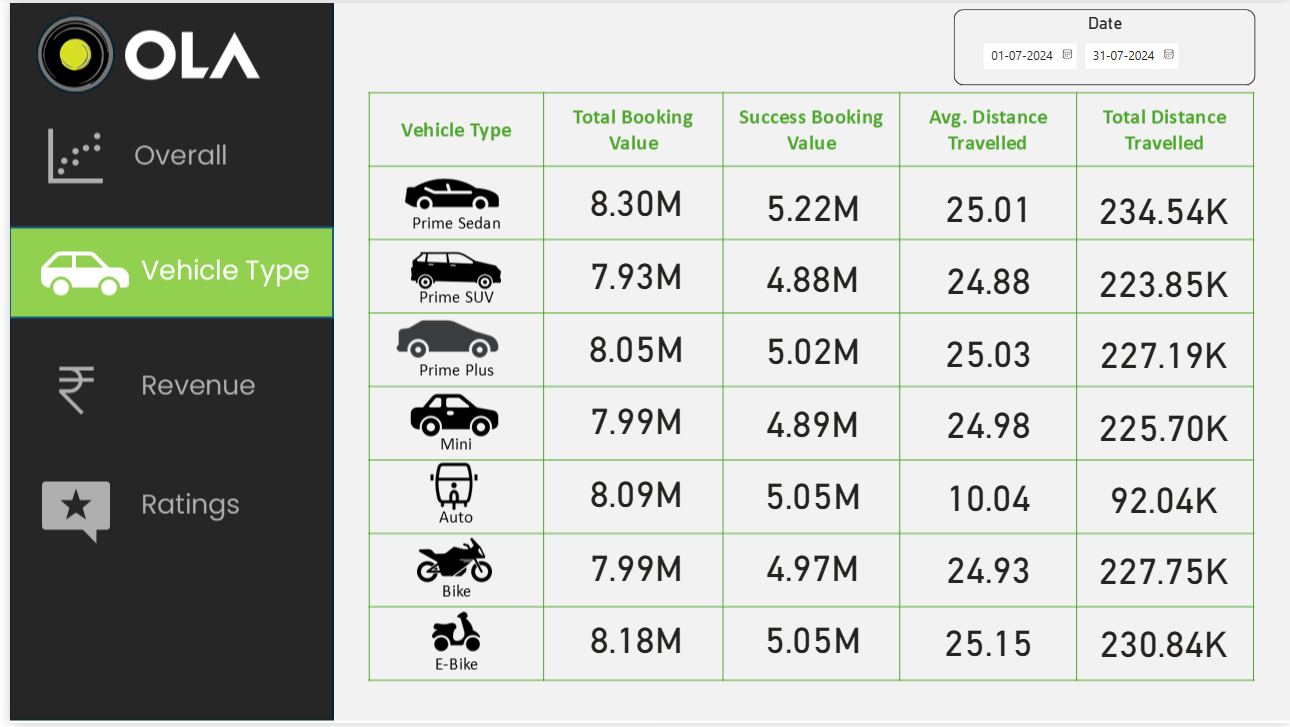

The page's visual inventory and layout, read from the dashboard file:
{"tool":"powerbi","page":{"name":"Vehicle Type","canvas":[1280,720],"ordinal":1},"visuals":[{"type":"card","fields":{"Values":["Sum(cleaned_bookings.Booking_Value)"]},"box":[551.4,162.9,150,68.6],"z":0},{"type":"card","fields":{"Values":["Sum(cleaned_bookings.Booking_Value)"]},"box":[551.4,235.7,150,68.6],"z":1000},{"type":"card","fields":{"Values":["Sum(cleaned_bookings.Booking_Value)"]},"box":[551.4,308.6,150,68.6],"z":2000},{"type":"card","fields":{"Values":["Sum(cleaned_bookings.Booking_Value)"]},"box":[551.4,381.4,150,68.6],"z":3000},{"type":"card","fields":{"Values":["Sum(cleaned_bookings.Booking_Value)"]},"box":[551.4,454.3,150,68.6],"z":4000},{"type":"card","fields":{"Values":["Sum(cleaned_bookings.Booking_Value)"]},"box":[551.4,527.1,150,68.6],"z":5000},{"type":"card","fields":{"Values":["Sum(cleaned_bookings.Booking_Value)"]},"box":[551.4,600,150,68.6],"z":6000},{"type":"card","fields":{"Values":["Sum(cleaned_bookings.Booking_Value)"]},"box":[727.3,167.1,150,68.6],"z":7000},{"type":"card","fields":{"Values":["Sum(cleaned_bookings.Booking_Value)"]},"box":[727.3,239.3,150,68.6],"z":8000},{"type":"card","fields":{"Values":["Sum(cleaned_bookings.Booking_Value)"]},"box":[727.3,311.4,150,68.6],"z":9000},{"type":"card","fields":{"Values":["Sum(cleaned_bookings.Booking_Value)"]},"box":[727.3,383.6,150,68.6],"z":10000},{"type":"card","fields":{"Values":["Sum(cleaned_bookings.Booking_Value)"]},"box":[727.3,455.7,150,68.6],"z":11000},{"type":"card","fields":{"Values":["Sum(cleaned_bookings.Booking_Value)"]},"box":[727.3,527.9,150,68.6],"z":12000},{"type":"card","fields":{"Values":["Sum(cleaned_bookings.Booking_Value)"]},"box":[727.4,600,150,68.6],"z":13000},{"type":"slicer","title":"Date","fields":{"Values":["cleaned_bookings.Date"]},"box":[944.3,5.7,301.4,75.7],"z":14000},{"type":"card","fields":{"Values":["Avg(cleaned_bookings.Ride_Distance)"]},"box":[903.2,169.1,150,68.6],"z":15000},{"type":"card","fields":{"Values":["Avg(cleaned_bookings.Ride_Distance)"]},"box":[903.2,241.3,150,68.6],"z":16000},{"type":"card","fields":{"Values":["Avg(cleaned_bookings.Ride_Distance)"]},"box":[903.2,313.4,150,68.6],"z":17000},{"type":"card","fields":{"Values":["Avg(cleaned_bookings.Ride_Distance)"]},"box":[903.2,385.6,150,68.6],"z":18000},{"type":"card","fields":{"Values":["Avg(cleaned_bookings.Ride_Distance)"]},"box":[903.2,457.7,150,68.6],"z":19000},{"type":"card","fields":{"Values":["Avg(cleaned_bookings.Ride_Distance)"]},"box":[903.2,529.9,150,68.6],"z":20000},{"type":"card","fields":{"Values":["Avg(cleaned_bookings.Ride_Distance)"]},"box":[903.4,602,150,68.6],"z":21000},{"type":"card","fields":{"Values":["Sum(cleaned_bookings.Ride_Distance)"]},"box":[1079.1,171.1,150,68.6],"z":22000},{"type":"card","fields":{"Values":["Sum(cleaned_bookings.Ride_Distance)"]},"box":[1079.1,243.3,150,68.6],"z":23000},{"type":"card","fields":{"Values":["Sum(cleaned_bookings.Ride_Distance)"]},"box":[1079.1,315.4,150,68.6],"z":24000},{"type":"card","fields":{"Values":["Sum(cleaned_bookings.Ride_Distance)"]},"box":[1079.1,387.6,150,68.6],"z":25000},{"type":"card","fields":{"Values":["Sum(cleaned_bookings.Ride_Distance)"]},"box":[1079.1,459.7,150,68.6],"z":26000},{"type":"card","fields":{"Values":["Sum(cleaned_bookings.Ride_Distance)"]},"box":[1079.1,531.9,150,68.6],"z":27000},{"type":"card","fields":{"Values":["Sum(cleaned_bookings.Ride_Distance)"]},"box":[1079.1,604,150,68.6],"z":28000}]}

Visuals, with their boxes on the page's 1280x720 design canvas (x1, y1, x2, y2). These are canvas units, not pixel positions in the 1290x727 screenshot, which may show the page scaled, cropped or inside an application window:
card - Sum(cleaned_bookings.Booking_Value): [left=551, top=163, right=701, bottom=232]
card - Sum(cleaned_bookings.Booking_Value): [left=551, top=236, right=701, bottom=304]
card - Sum(cleaned_bookings.Booking_Value): [left=551, top=309, right=701, bottom=377]
card - Sum(cleaned_bookings.Booking_Value): [left=551, top=381, right=701, bottom=450]
card - Sum(cleaned_bookings.Booking_Value): [left=551, top=454, right=701, bottom=523]
card - Sum(cleaned_bookings.Booking_Value): [left=551, top=527, right=701, bottom=596]
card - Sum(cleaned_bookings.Booking_Value): [left=551, top=600, right=701, bottom=669]
card - Sum(cleaned_bookings.Booking_Value): [left=727, top=167, right=877, bottom=236]
card - Sum(cleaned_bookings.Booking_Value): [left=727, top=239, right=877, bottom=308]
card - Sum(cleaned_bookings.Booking_Value): [left=727, top=311, right=877, bottom=380]
card - Sum(cleaned_bookings.Booking_Value): [left=727, top=384, right=877, bottom=452]
card - Sum(cleaned_bookings.Booking_Value): [left=727, top=456, right=877, bottom=524]
card - Sum(cleaned_bookings.Booking_Value): [left=727, top=528, right=877, bottom=596]
card - Sum(cleaned_bookings.Booking_Value): [left=727, top=600, right=877, bottom=669]
"Date" slicer: [left=944, top=6, right=1246, bottom=81]
card - Avg(cleaned_bookings.Ride_Distance): [left=903, top=169, right=1053, bottom=238]
card - Avg(cleaned_bookings.Ride_Distance): [left=903, top=241, right=1053, bottom=310]
card - Avg(cleaned_bookings.Ride_Distance): [left=903, top=313, right=1053, bottom=382]
card - Avg(cleaned_bookings.Ride_Distance): [left=903, top=386, right=1053, bottom=454]
card - Avg(cleaned_bookings.Ride_Distance): [left=903, top=458, right=1053, bottom=526]
card - Avg(cleaned_bookings.Ride_Distance): [left=903, top=530, right=1053, bottom=598]
card - Avg(cleaned_bookings.Ride_Distance): [left=903, top=602, right=1053, bottom=671]
card - Sum(cleaned_bookings.Ride_Distance): [left=1079, top=171, right=1229, bottom=240]
card - Sum(cleaned_bookings.Ride_Distance): [left=1079, top=243, right=1229, bottom=312]
card - Sum(cleaned_bookings.Ride_Distance): [left=1079, top=315, right=1229, bottom=384]
card - Sum(cleaned_bookings.Ride_Distance): [left=1079, top=388, right=1229, bottom=456]
card - Sum(cleaned_bookings.Ride_Distance): [left=1079, top=460, right=1229, bottom=528]
card - Sum(cleaned_bookings.Ride_Distance): [left=1079, top=532, right=1229, bottom=600]
card - Sum(cleaned_bookings.Ride_Distance): [left=1079, top=604, right=1229, bottom=673]
